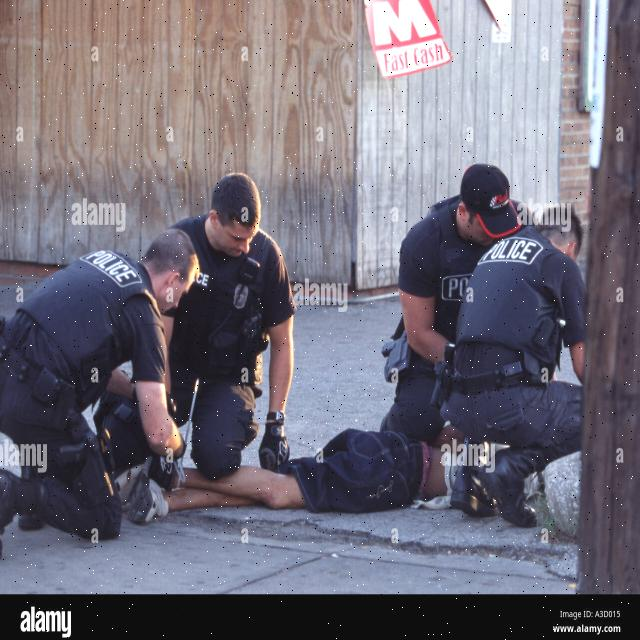police: (0, 208, 187, 584), (139, 162, 302, 492), (437, 179, 586, 536), (373, 145, 519, 470)
